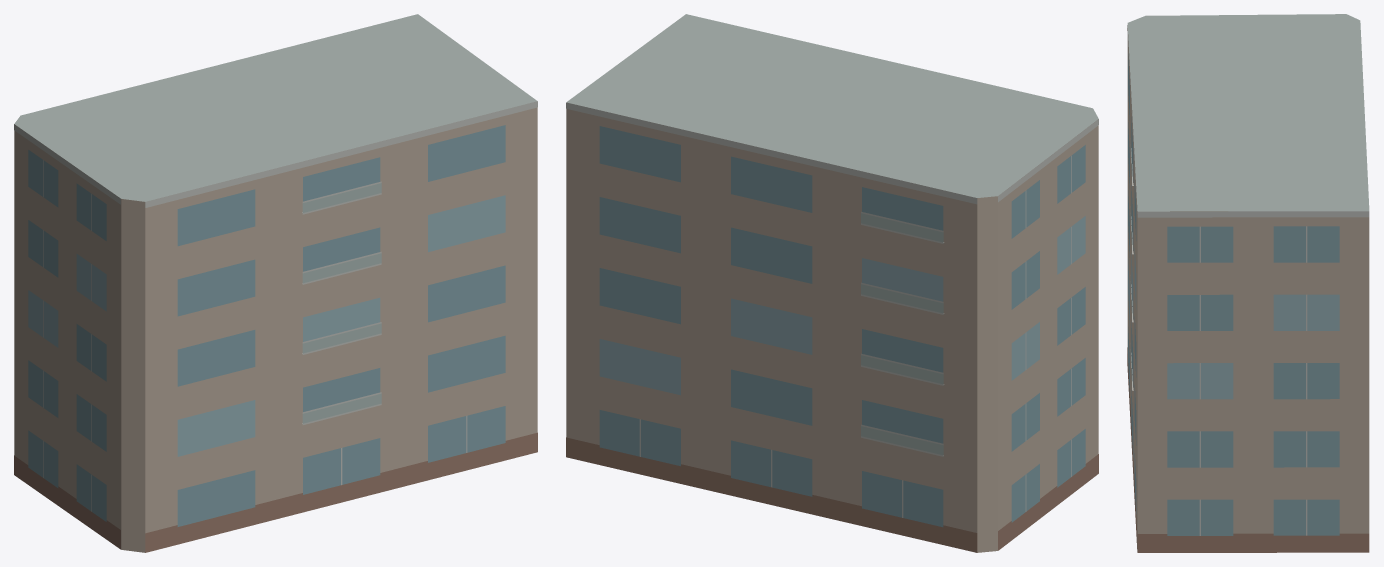
Rendered from survey-upis-32920295.glb.
The picture shows the model from 3 angles, left to right: view 1: azimuth 30°, elevation 25°; view 2: azimuth 150°, elevation 25°; view 3: azimuth 270°, elevation 25°; orthographic projection. The views are drawn at different scales.
Visible parts, largest first — view 1: survey-upis-32920295.tmp; view 2: survey-upis-32920295.tmp; view 3: survey-upis-32920295.tmp.
Part boxes in pixels (left/top/right/bottom): survey-upis-32920295.tmp: left=14, top=14, right=537, bottom=552; survey-upis-32920295.tmp: left=566, top=14, right=1098, bottom=552; survey-upis-32920295.tmp: left=1127, top=14, right=1369, bottom=552.
Size of the model in its own units: 17.01 by 13.7 by 8.81.
